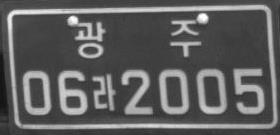0: (195, 67, 229, 115), (157, 68, 191, 114), (21, 69, 52, 115)
2: (120, 68, 154, 116)
5: (231, 66, 266, 115)
6: (56, 69, 88, 116)
광주_D: (72, 19, 201, 60)
라: (91, 72, 116, 111)
